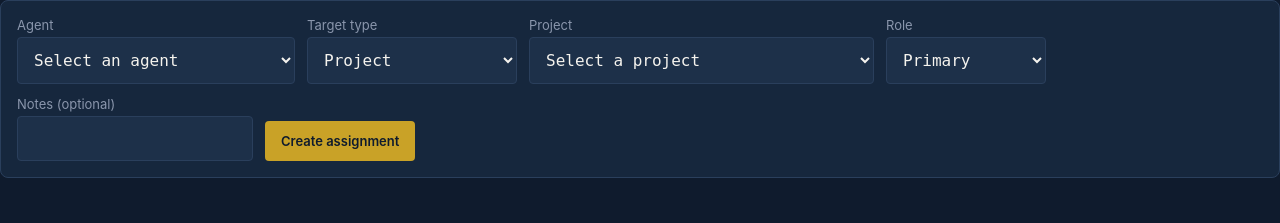
Test: CreateAssignmentForm › blocks submit without an agent selected
Select "PRJ-001 — Lekki Gardens Phase 1" in the dropdown labelled "Project" at (702, 60), box [529, 37, 874, 84]
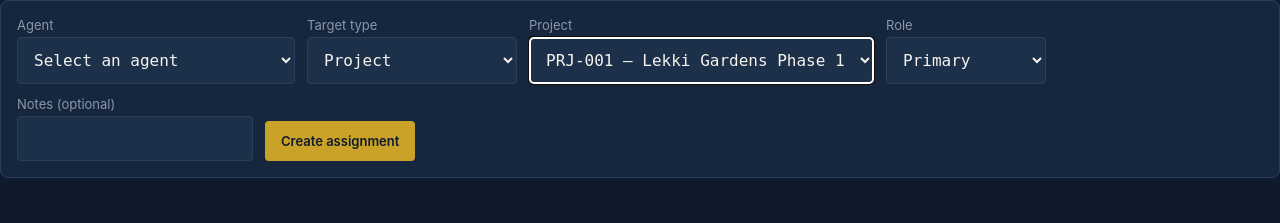
Click the button "Create assignment" at (340, 141), box [265, 121, 415, 161]
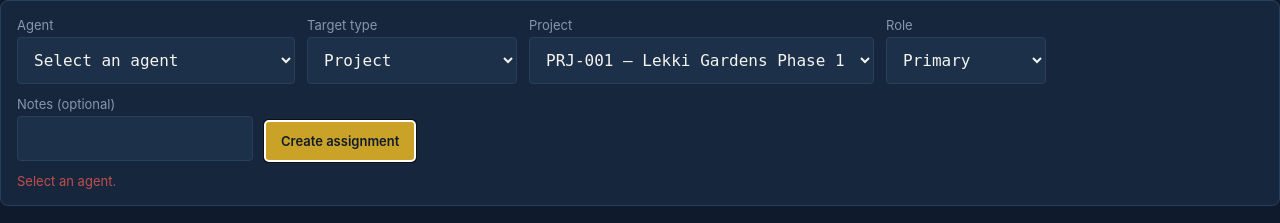
Now the text "Select an agent." is shown, box [17, 173, 116, 189]
